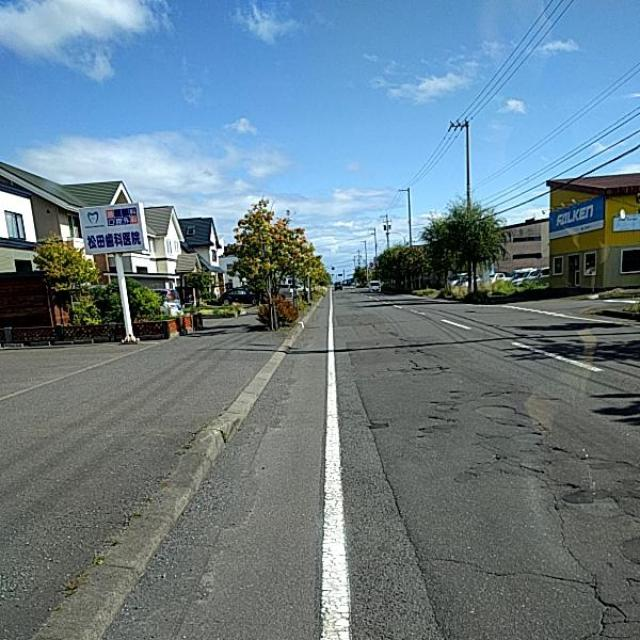Crack: (319, 302, 476, 640), (501, 381, 640, 640)
